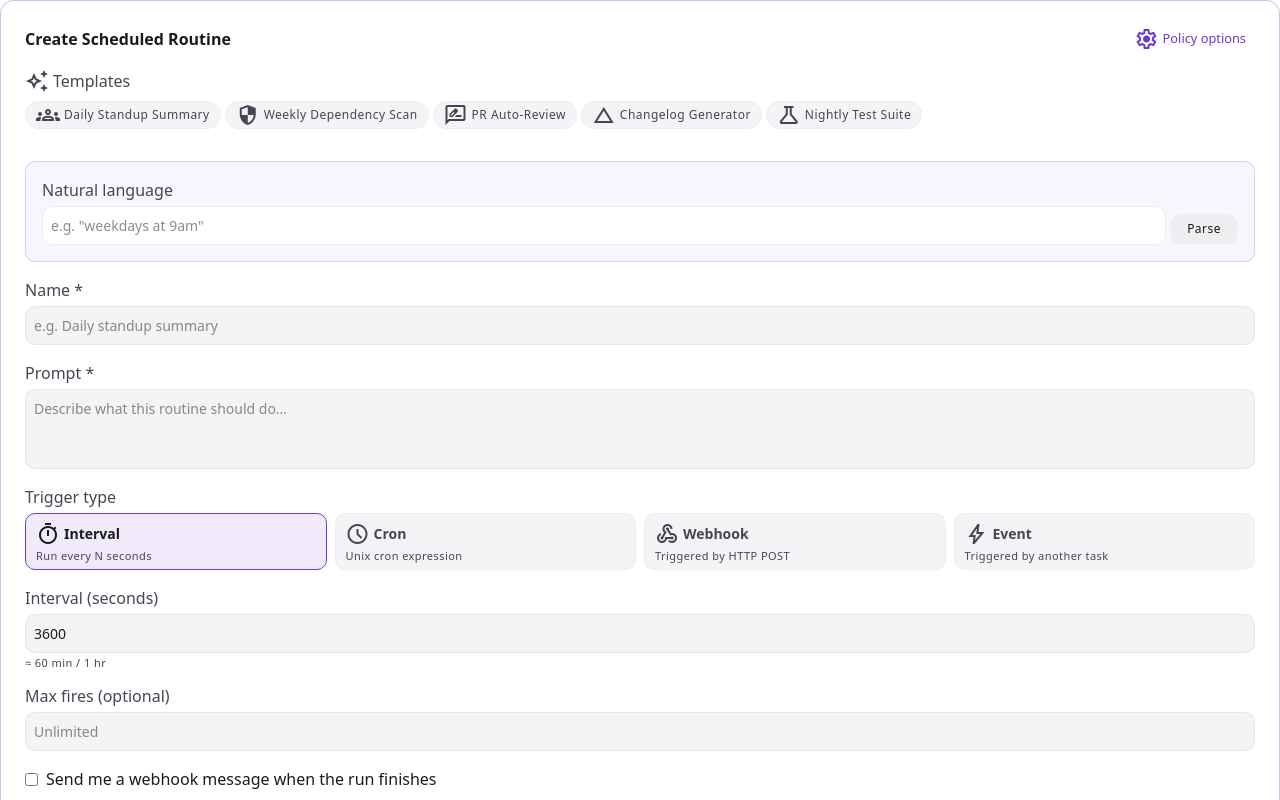
it: ScheduleForm › enables Review when name + prompt + interval filled
Type "Standup" into the field with placeholder "e.g. Daily standup summary".
click(640, 326); type("Standup")  # box [25,306,1255,345]
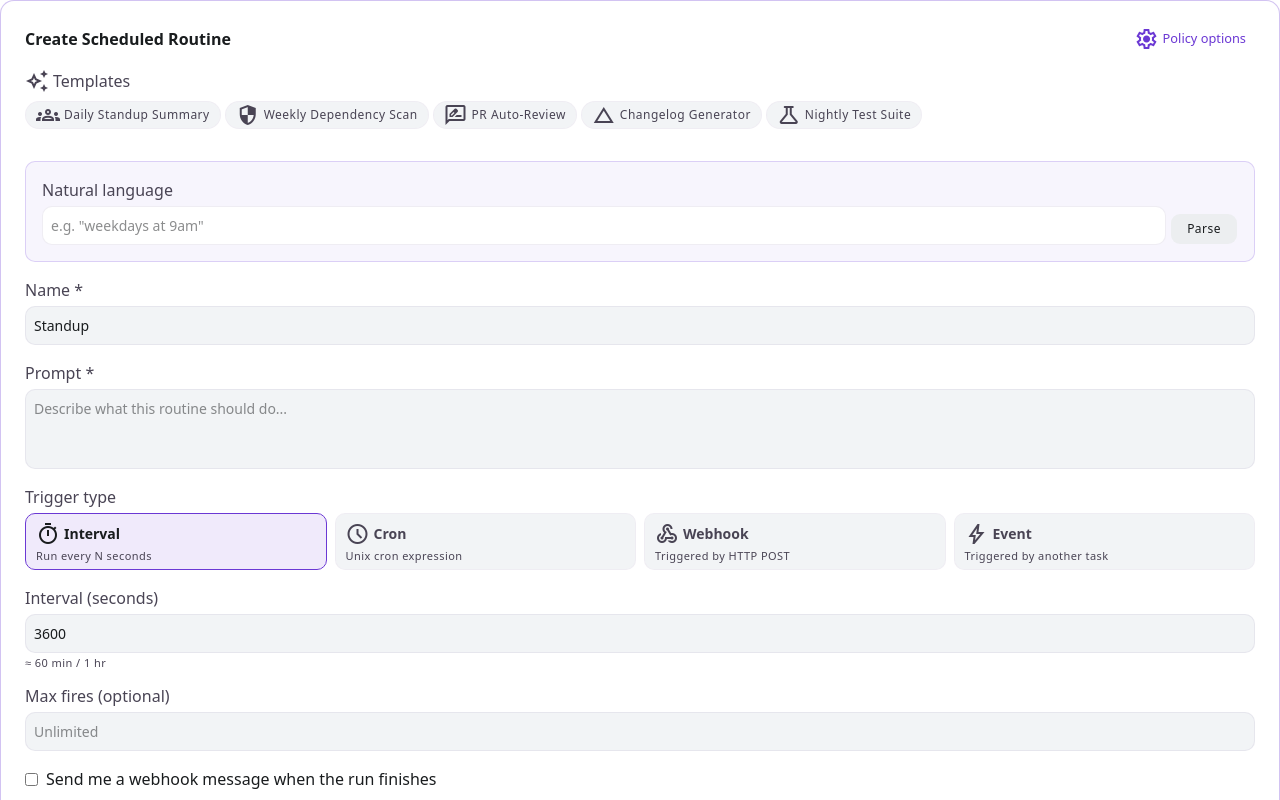
Type "Run summary" into the text box with placeholder "Describe what this routine should do...".
click(640, 429); type("Run summary")  # box [25,389,1255,469]
(page scrolled)
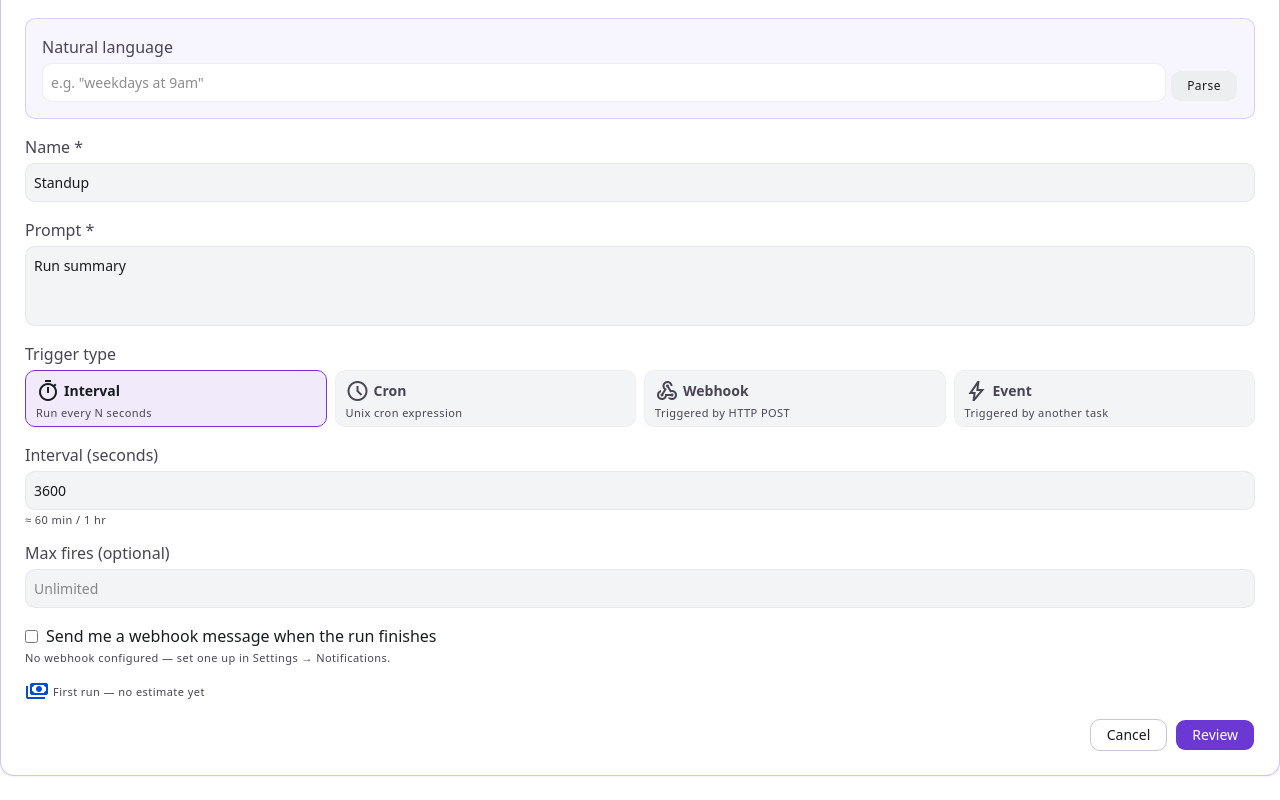
Check: the button "Review" is enabled, box [1175,719,1255,751]
